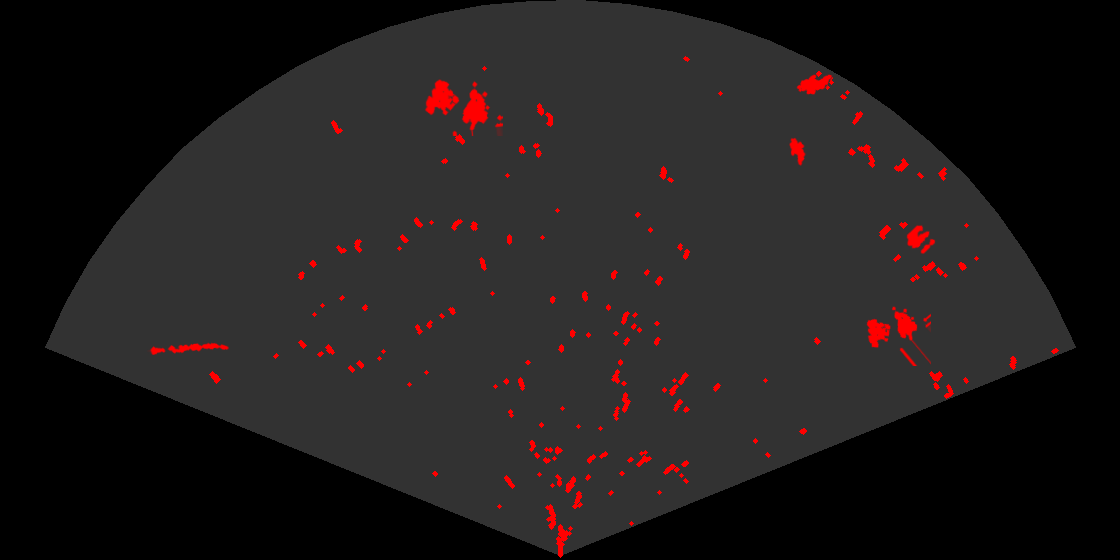AUV: (795, 73, 834, 96), (788, 136, 807, 168)
ball: (905, 223, 937, 256)
cage: (423, 78, 503, 136), (865, 305, 931, 366)
chain: (147, 341, 229, 357)
